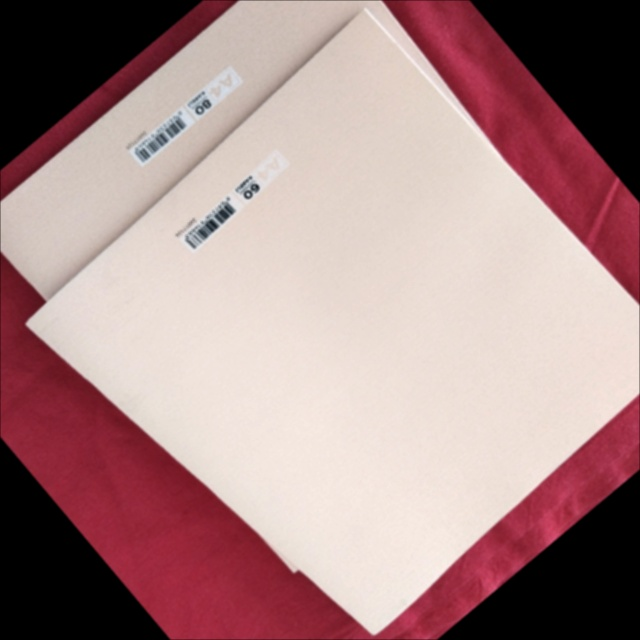60_sayfa_gipta_defter: (29, 12, 639, 633)
80_sayfa_gipta_defter: (1, 0, 479, 299)
